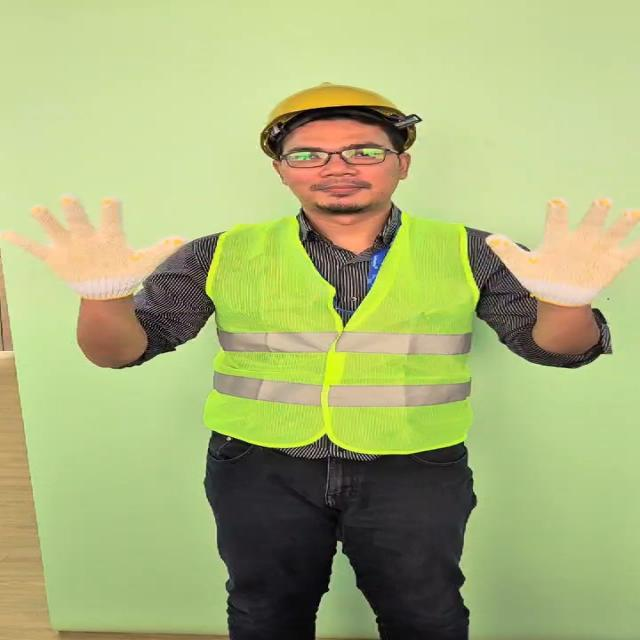gloves: (2, 195, 186, 300), (483, 195, 640, 308)
goggles: (277, 148, 403, 168)
helmet: (258, 81, 419, 147)
safety_vest: (199, 217, 481, 452)
